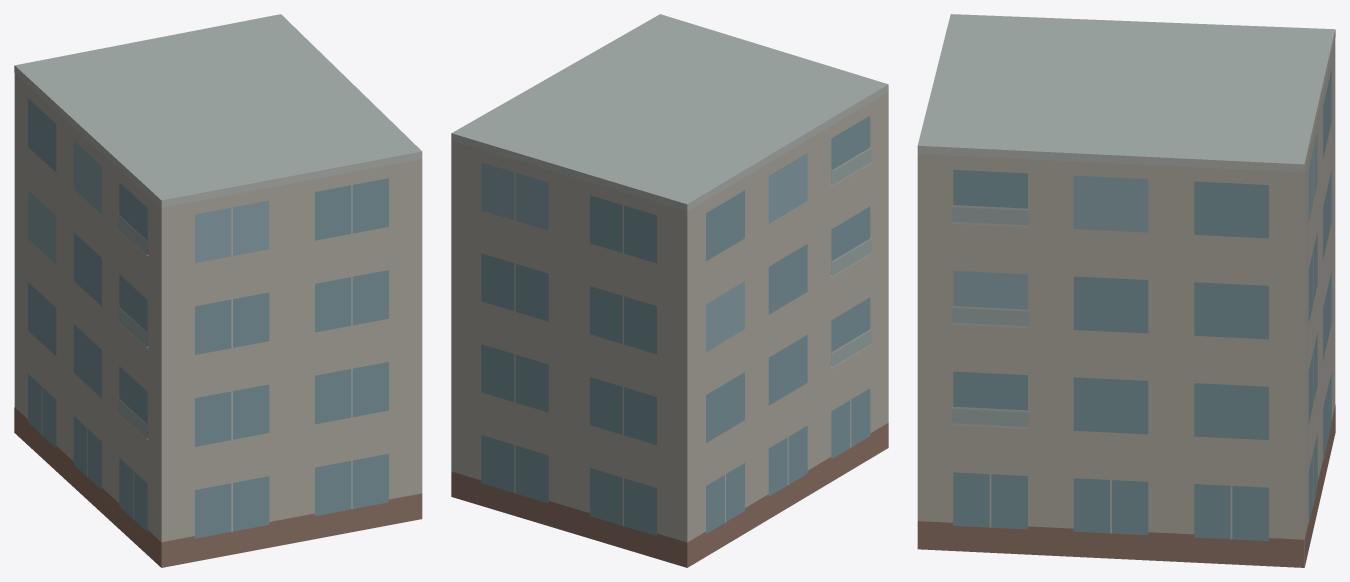
File: survey-upis-32804601.glb
3 renders of one model, left to right at view 1: azimuth 30°, elevation 25°; view 2: azimuth 150°, elevation 25°; view 3: azimuth 270°, elevation 25°, orthographic. The views are drawn at different scales.
Visible parts, largest first — view 1: survey-upis-32804601.tmp; view 2: survey-upis-32804601.tmp; view 3: survey-upis-32804601.tmp.
Part boxes in pixels (<box>): survey-upis-32804601.tmp: <box>14,14,422,567</box>; survey-upis-32804601.tmp: <box>451,14,888,567</box>; survey-upis-32804601.tmp: <box>917,14,1335,567</box>.
Bounding box in the file's own units: 9.76 × 12.2 × 11.46.
